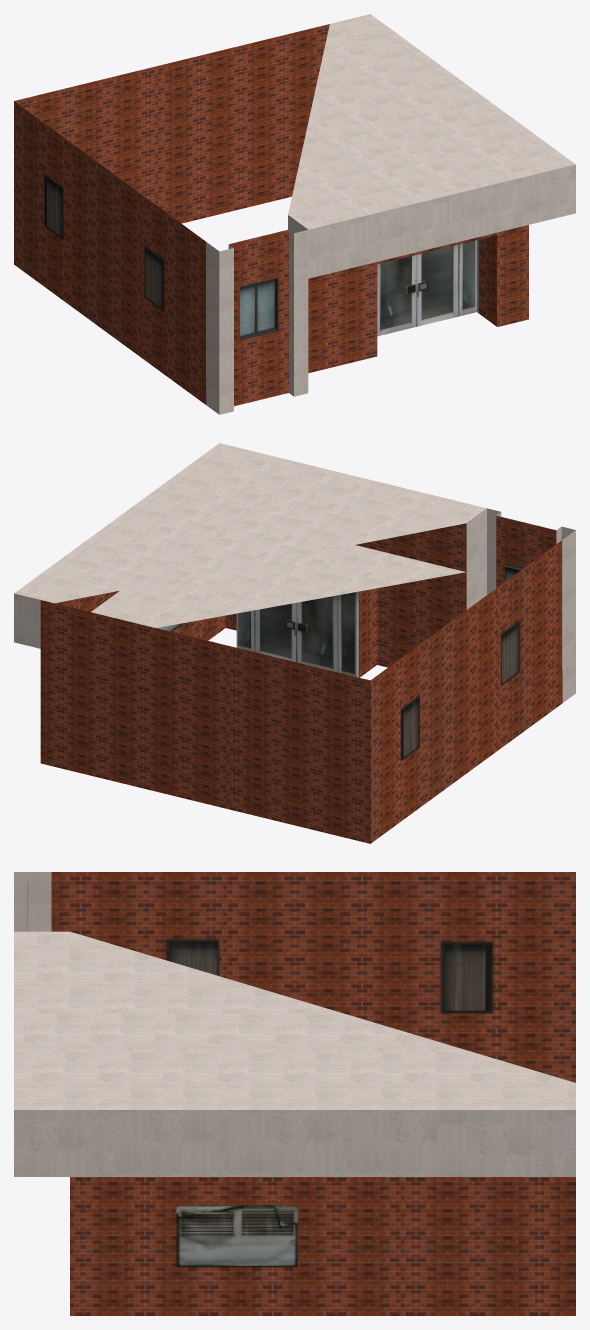
Rendered from building01_1f.fbx.
The picture shows the model from 3 angles, top to bottom: view 1: azimuth 30°, elevation 25°; view 2: azimuth 150°, elevation 25°; view 3: azimuth 270°, elevation 25°; orthographic projection. The views are drawn at different scales.
Parts seen in each view (by area): view 1: polySurface6, polySurface5; view 2: polySurface6, polySurface5; view 3: polySurface6, polySurface5.
Part boxes in pixels (bbox=[...]): polySurface6: bbox=[14, 24, 528, 414]; polySurface5: bbox=[288, 14, 575, 278]; polySurface6: bbox=[40, 508, 575, 843]; polySurface5: bbox=[14, 443, 486, 648]; polySurface6: bbox=[14, 872, 575, 1315]; polySurface5: bbox=[14, 931, 575, 1176].
Size of the model in its own units: 801 by 351 by 800.
Materials: 3 (2 with a texture image).
